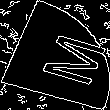M_W: (14, 24, 96, 86)
